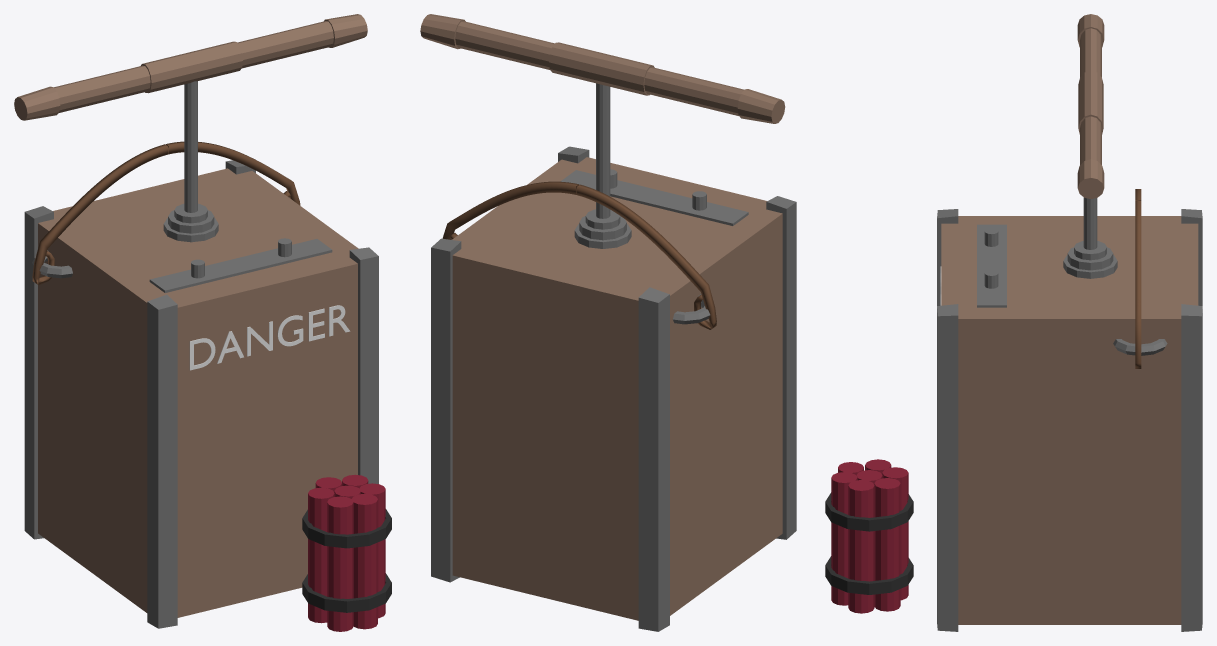
Rendered from tnt.fbx.
The picture shows the model from 3 angles, left to right: view 1: azimuth 30°, elevation 25°; view 2: azimuth 150°, elevation 25°; view 3: azimuth 270°, elevation 25°; orthographic projection. The views are drawn at different scales.
Visible parts, largest first — view 1: tnt; view 2: tnt; view 3: tnt.
Part boxes in pixels (x1,y1,x2,y2): tnt: (14, 14, 391, 631); tnt: (420, 14, 796, 631); tnt: (825, 14, 1202, 631).
Size of the model in its own units: 68.27 by 94.89 by 66.49.
